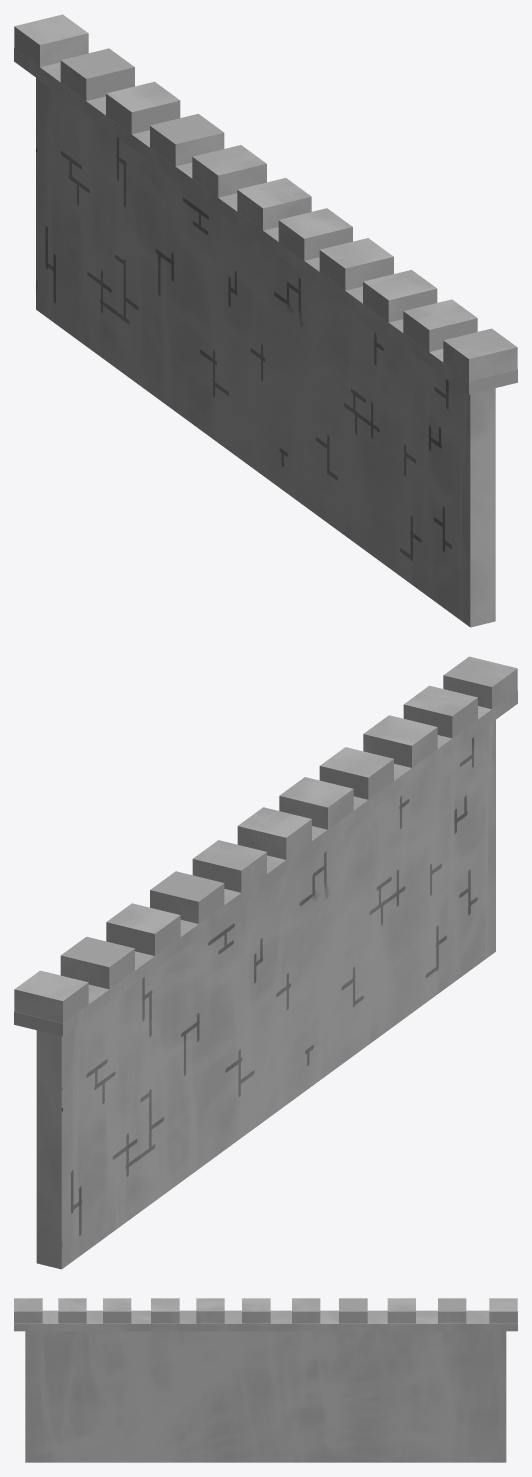
The model's file is EndWallBase.fbx.
The picture shows the model from 3 angles, top to bottom: view 1: azimuth 30°, elevation 25°; view 2: azimuth 150°, elevation 25°; view 3: azimuth 270°, elevation 25°; orthographic projection. The views are drawn at different scales.
Parts seen in each view (by area): view 1: Cube.013; view 2: Cube.013; view 3: Cube.013.
Boxes of the visible parts, x1,y1,x2,y2 form: Cube.013: (14, 14, 517, 627); Cube.013: (14, 656, 517, 1269); Cube.013: (14, 1298, 517, 1462).
Bounding box in the file's own units: 392 × 2124 × 6287.
